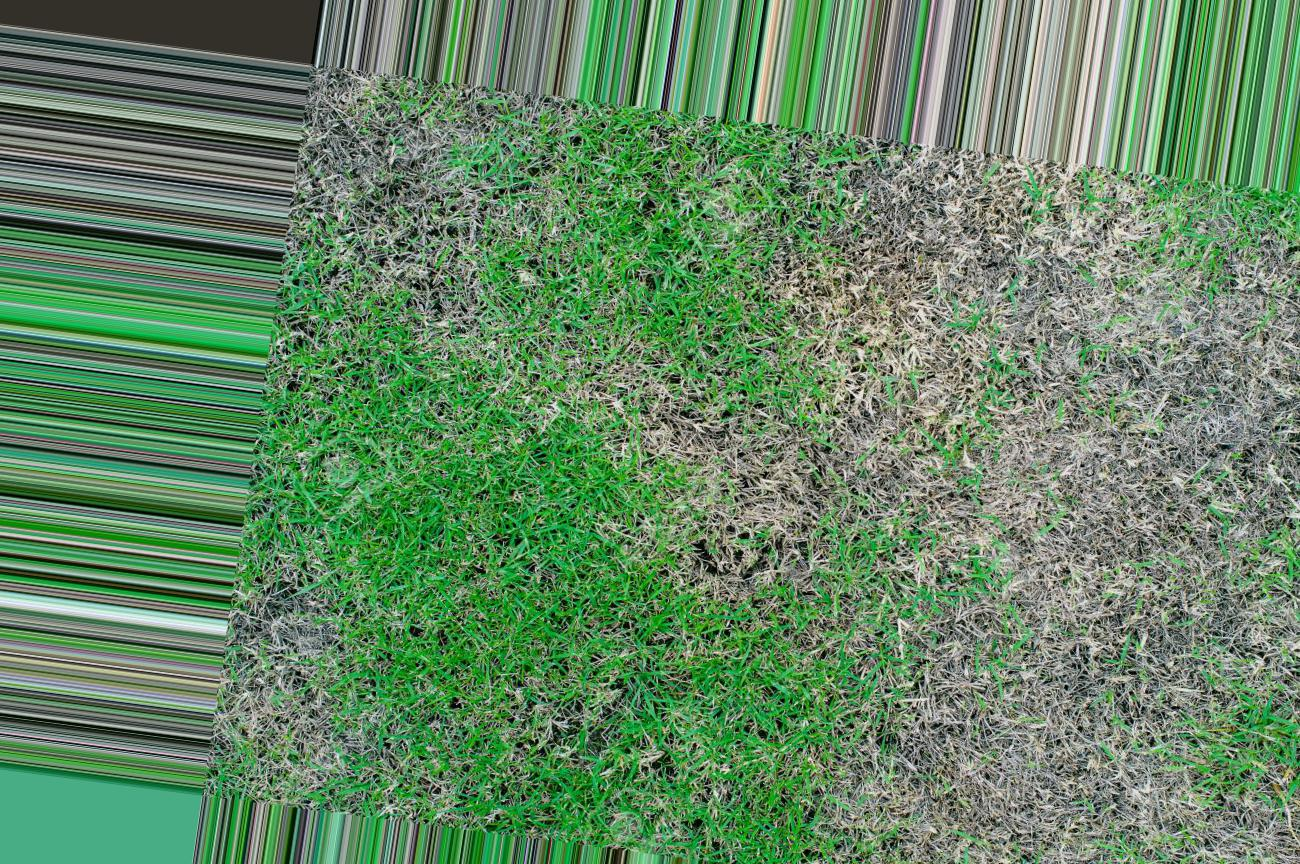patch: (916, 197, 1188, 625)
